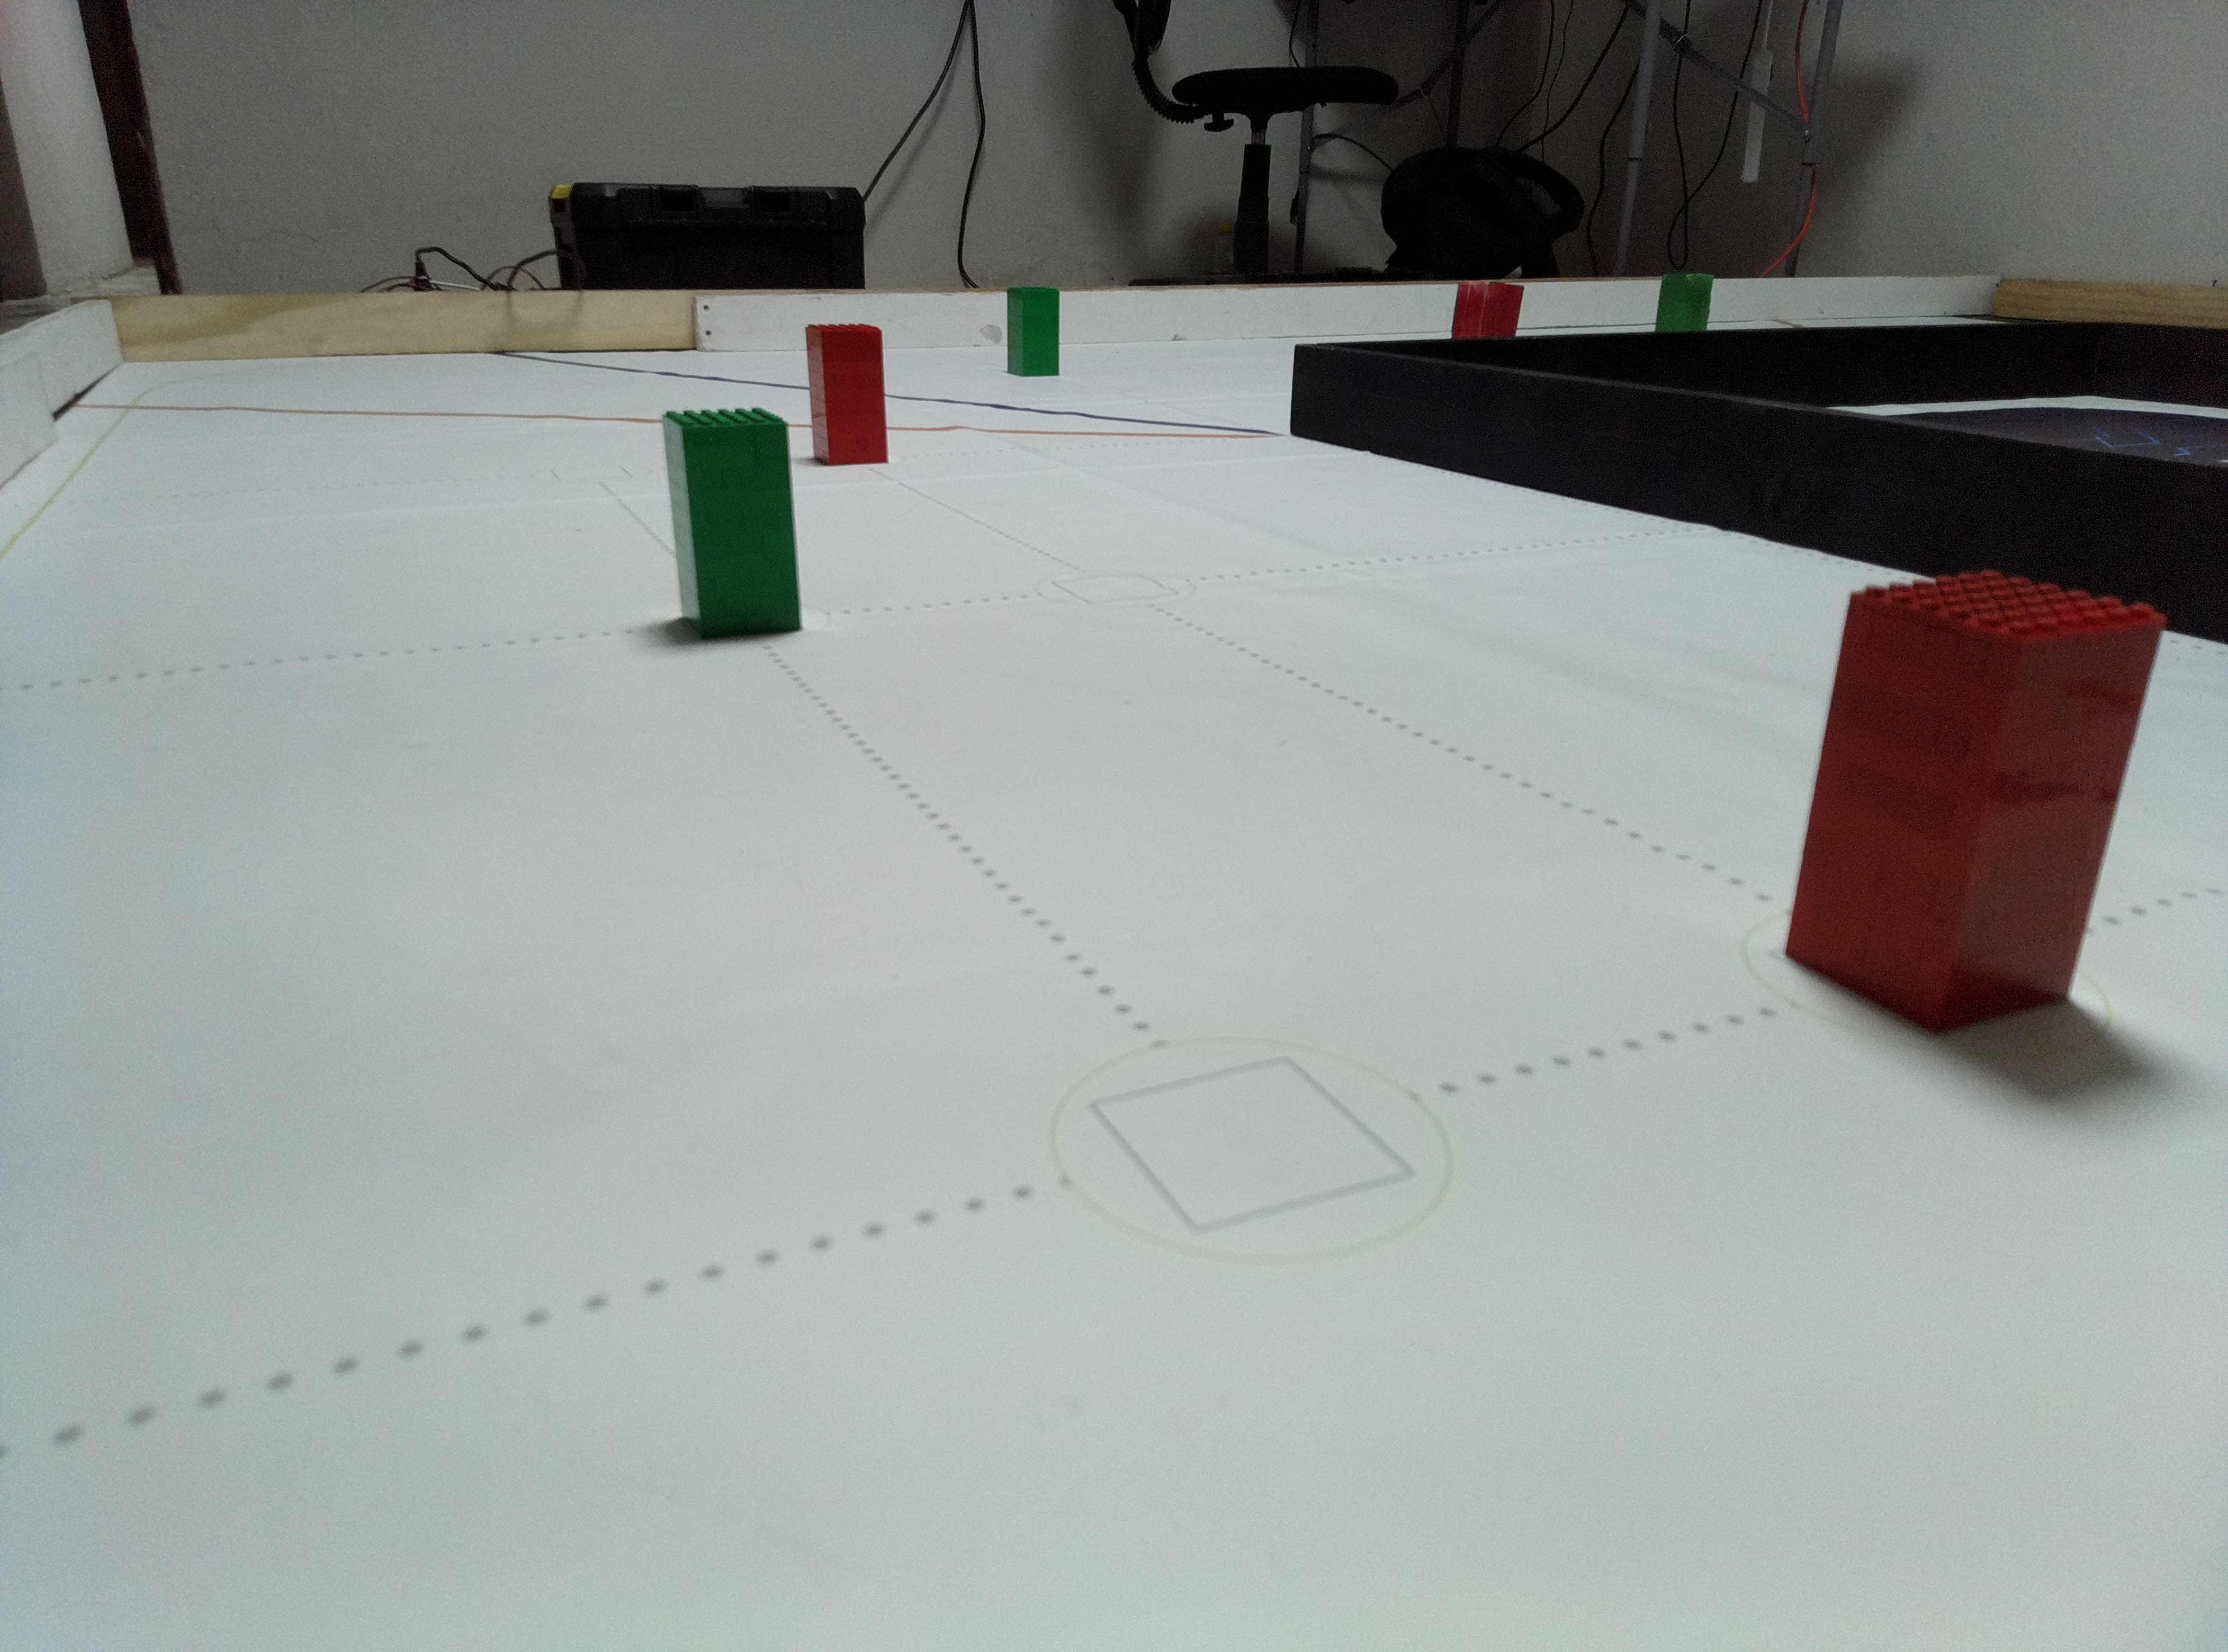greenbox: (661, 404, 803, 642), (1005, 283, 1062, 377), (1654, 271, 1714, 331)
redbox: (1775, 564, 2176, 1036), (803, 323, 890, 467), (1447, 281, 1527, 338)
